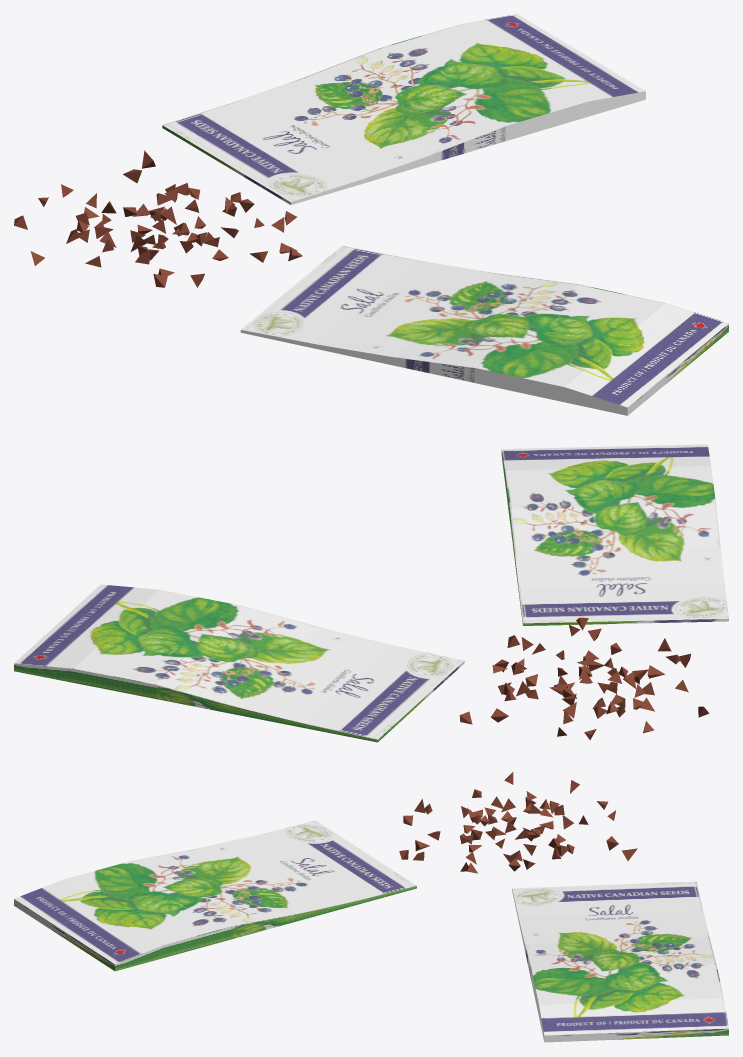
The model's file is salal-seeds.glb.
3 renders of one model, top to bottom at view 1: azimuth 30°, elevation 25°; view 2: azimuth 150°, elevation 25°; view 3: azimuth 270°, elevation 25°, orthographic. The views are drawn at different scales.
Parts seen in each view (by area): view 1: Cube.001, Cube; view 2: Cube.001, Cube; view 3: Cube, Cube.001.
Boxes of the visible parts, <box> form: Cube.001: <box>162,14,645,204</box>; Cube: <box>240,245,728,415</box>; Cube.001: <box>14,584,464,742</box>; Cube: <box>501,444,728,625</box>; Cube: <box>14,820,416,971</box>; Cube.001: <box>512,881,728,1042</box>.
Size of the model in its own units: 8.28 by 0.2672 by 9.73.
Materials: 2 (1 with a texture image).
